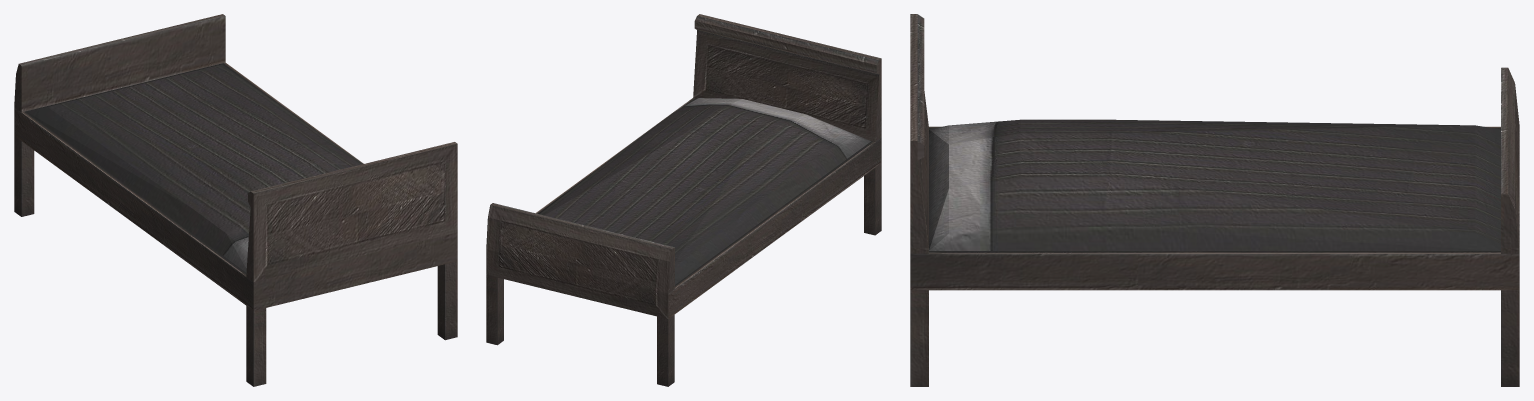
Rendered from Bed.FBX.
The picture shows the model from 3 angles, left to right: view 1: azimuth 30°, elevation 25°; view 2: azimuth 150°, elevation 25°; view 3: azimuth 270°, elevation 25°; orthographic projection. The views are drawn at different scales.
Visible parts, largest first — view 1: Bed; view 2: Bed; view 3: Bed.
Boxes of the visible parts, left/top/right/bottom form: Bed: left=14, top=14, right=457, bottom=386; Bed: left=486, top=14, right=881, bottom=386; Bed: left=910, top=14, right=1519, bottom=386.
Size of the model in its own units: 48.27 by 98 by 43.66.
